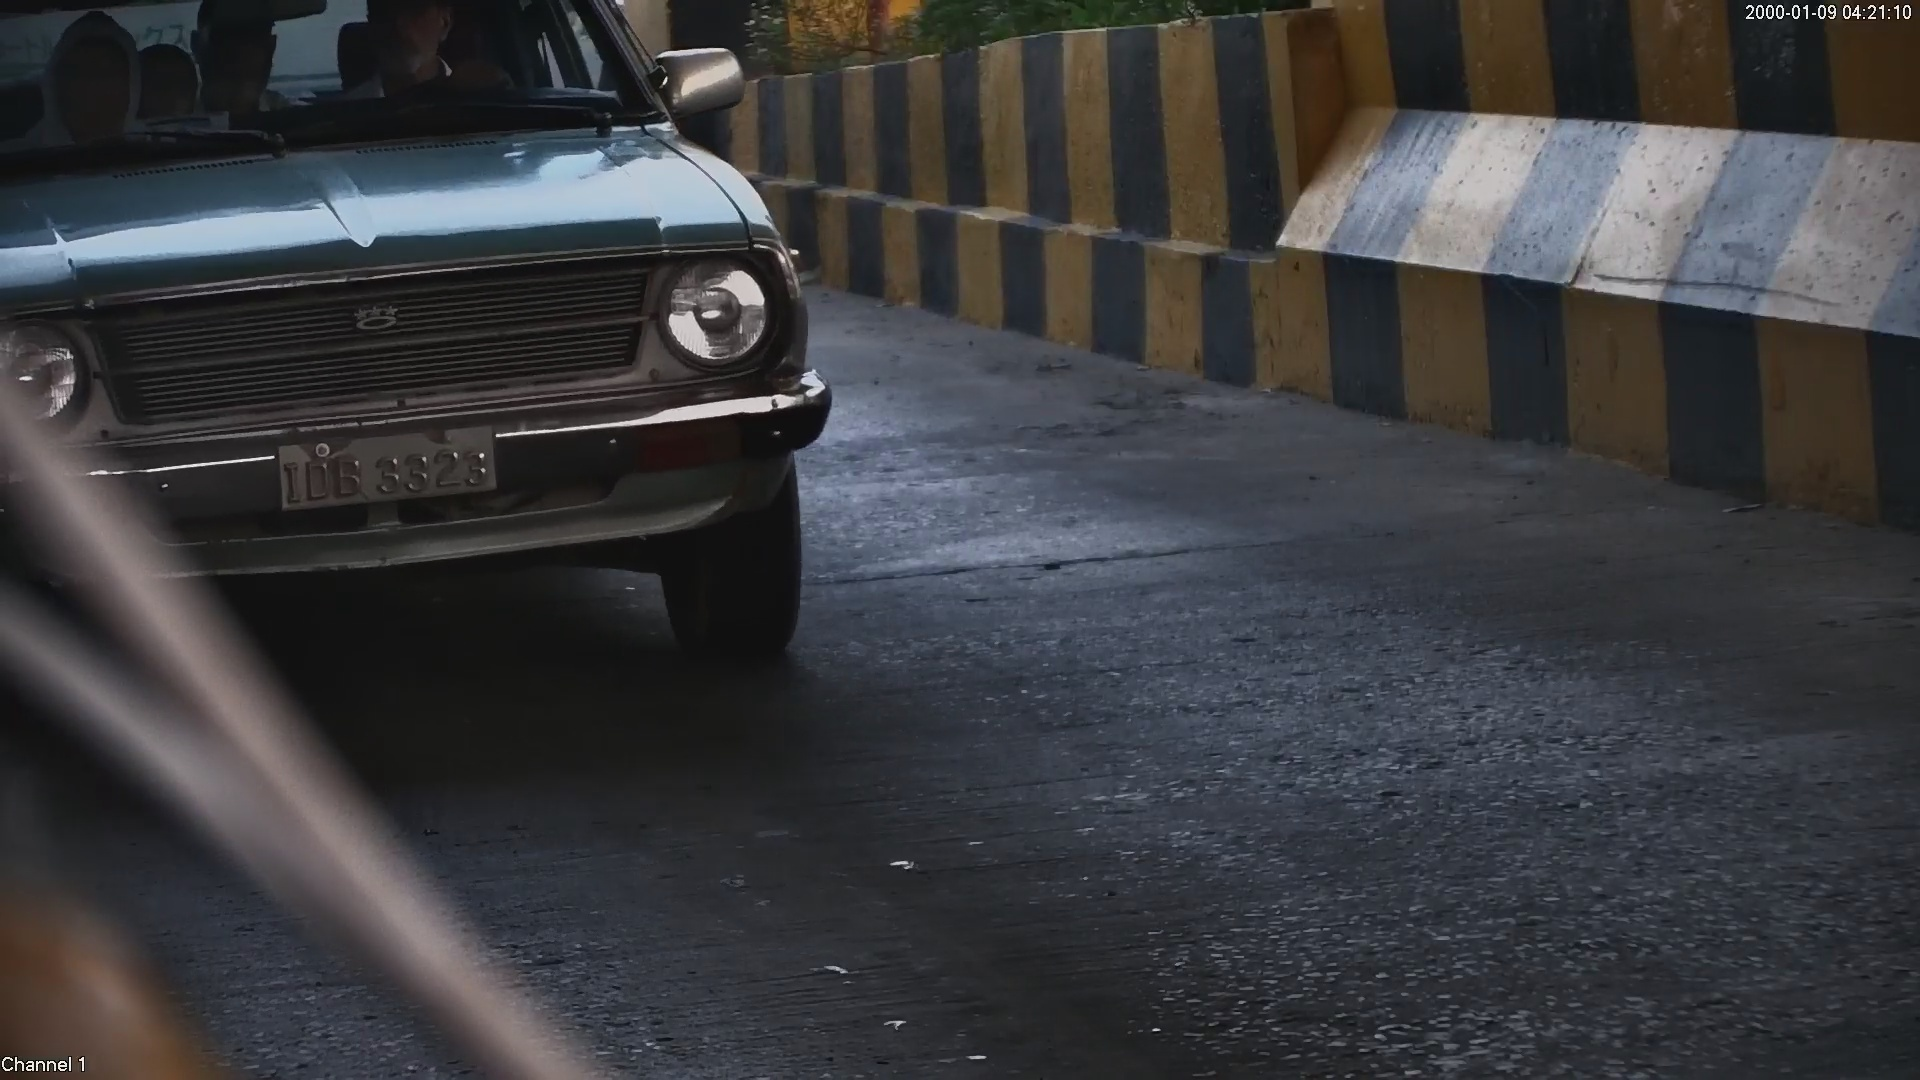Number_Plate: (260, 418, 517, 512)
Undefined: (323, 281, 421, 340)
